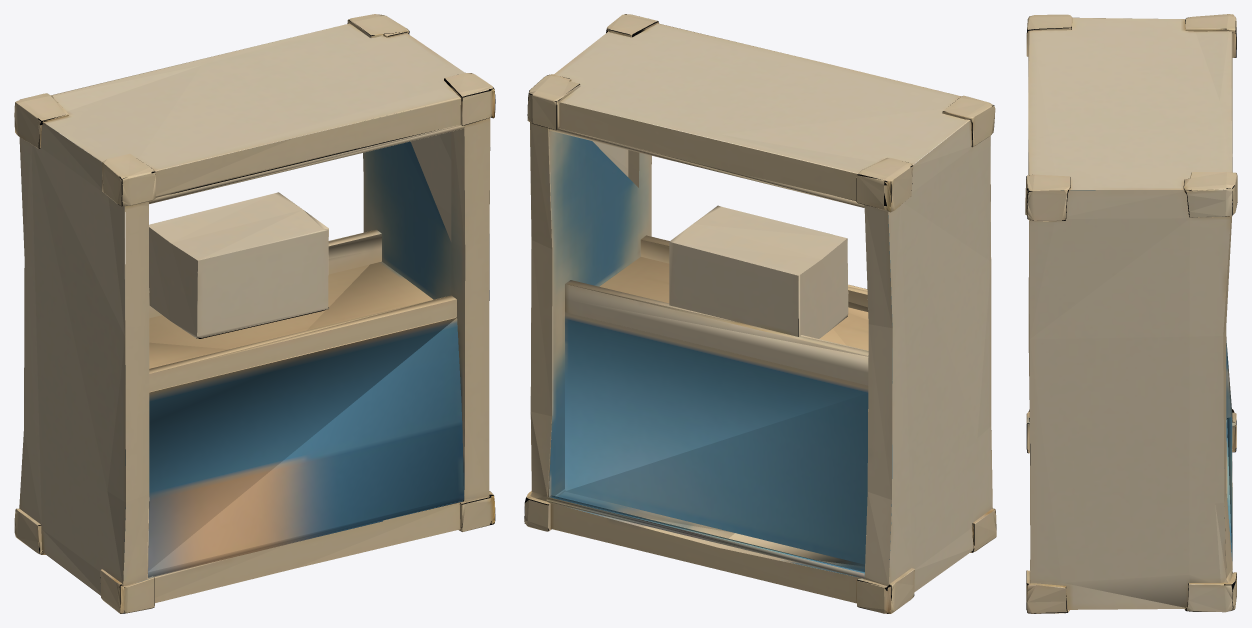
Rendered from prepared.glb.
3 views of the same model, side by side, from view 1: azimuth 30°, elevation 25°; view 2: azimuth 150°, elevation 25°; view 3: azimuth 270°, elevation 25° (orthographic). The views are drawn at different scales.
Visible parts, largest first — view 1: paper-room-decoration; view 2: paper-room-decoration; view 3: paper-room-decoration.
Part boxes in pixels (x1=…): paper-room-decoration: x1=14, y1=14, x2=495, y2=613; paper-room-decoration: x1=524, y1=14, x2=996, y2=613; paper-room-decoration: x1=1025, y1=14, x2=1237, y2=613.
Size of the model in its own units: 1.1 by 1.23 by 0.5571.
1 material, 1 textured.
